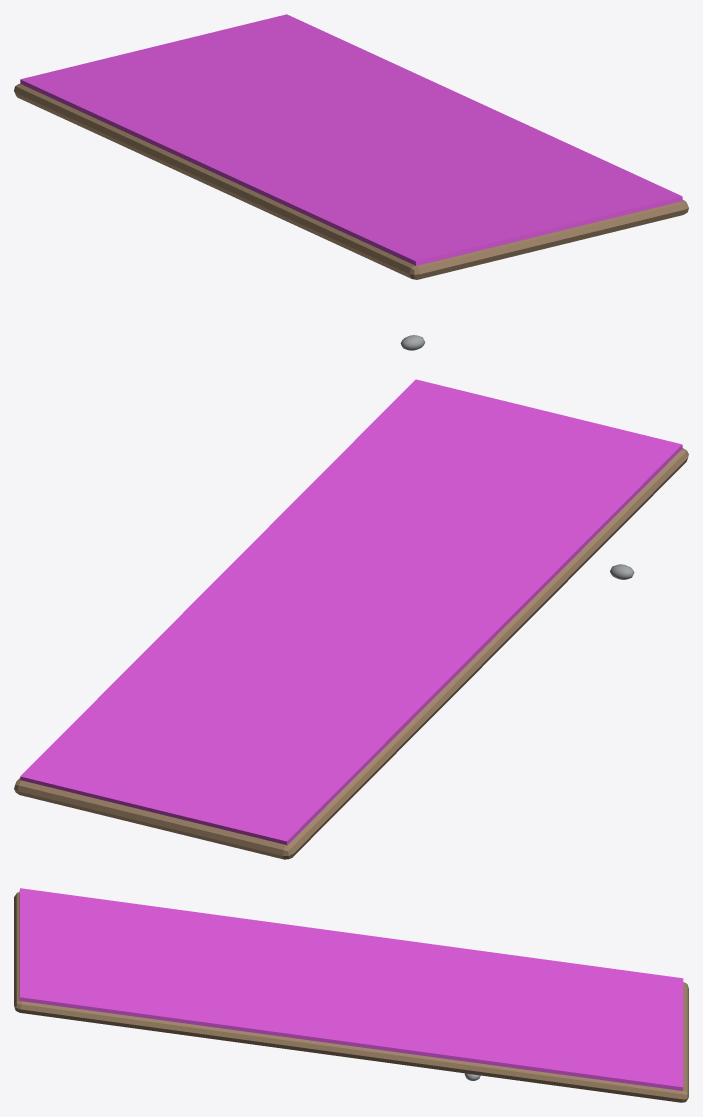
The model's file is forest_path_dirt_slope_up_lod1_v1.glb.
The picture shows the model from 3 angles, top to bottom: view 1: azimuth 30°, elevation 25°; view 2: azimuth 150°, elevation 25°; view 3: azimuth 270°, elevation 25°; orthographic projection. The views are drawn at different scales.
Visible parts, largest first — view 1: NAV_MASK_FOREST_PATH_DIRT_SLOPE_UP_SLOPE, LOD1_FOREST_PATH_DIRT_SLOPE_UP_Slope; view 2: NAV_MASK_FOREST_PATH_DIRT_SLOPE_UP_SLOPE, LOD1_FOREST_PATH_DIRT_SLOPE_UP_Slope; view 3: NAV_MASK_FOREST_PATH_DIRT_SLOPE_UP_SLOPE, LOD1_FOREST_PATH_DIRT_SLOPE_UP_Slope.
Part boxes in pixels (x1,y1,x2,y2): NAV_MASK_FOREST_PATH_DIRT_SLOPE_UP_SLOPE: (20, 14, 682, 265); LOD1_FOREST_PATH_DIRT_SLOPE_UP_Slope: (14, 83, 688, 279); NAV_MASK_FOREST_PATH_DIRT_SLOPE_UP_SLOPE: (20, 379, 682, 845); LOD1_FOREST_PATH_DIRT_SLOPE_UP_Slope: (14, 448, 688, 859); NAV_MASK_FOREST_PATH_DIRT_SLOPE_UP_SLOPE: (19, 888, 683, 1090); LOD1_FOREST_PATH_DIRT_SLOPE_UP_Slope: (14, 892, 688, 1102).
Size of what is drawn, in the model's own units: 3.2 by 1.38 by 8.
